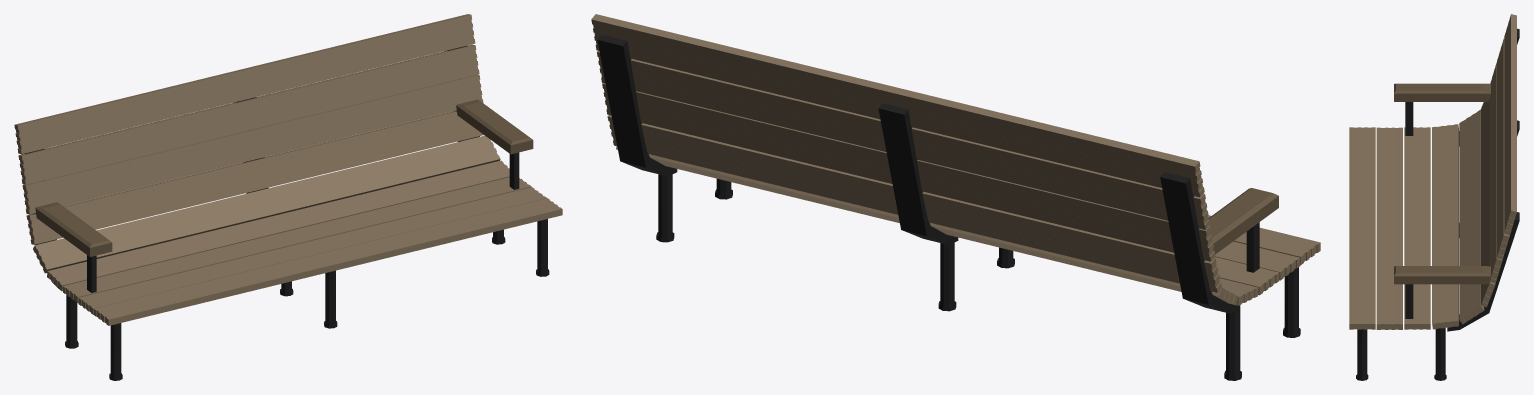
The model's file is Bench2.fbx.
The picture shows the model from 3 angles, left to right: view 1: azimuth 30°, elevation 25°; view 2: azimuth 150°, elevation 25°; view 3: azimuth 270°, elevation 25°; orthographic projection. The views are drawn at different scales.
Parts seen in each view (by area): view 1: pCylinder101; view 2: pCylinder101; view 3: pCylinder101.
Boxes of the visible parts, x1,y1,x2,y2 form: pCylinder101: (14, 14, 562, 380); pCylinder101: (591, 14, 1320, 380); pCylinder101: (1349, 14, 1519, 380).
Bounding box in the file's own units: 8.26 × 3.39 × 3.02.
